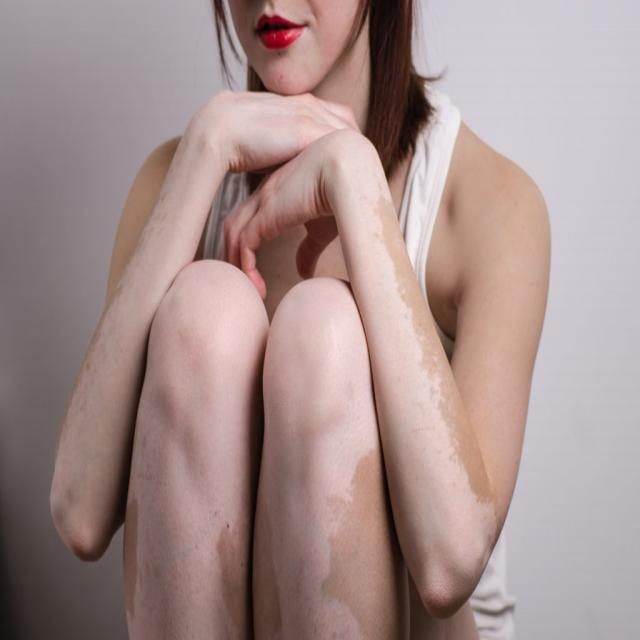vitiligo: (131, 342, 387, 639), (356, 171, 488, 564)
